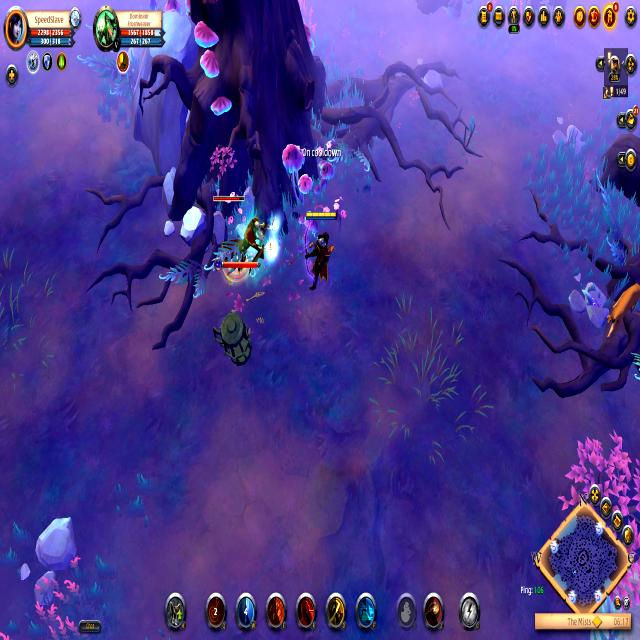ore: (205, 184, 271, 273), (604, 274, 640, 342)
red: (300, 204, 344, 294)
